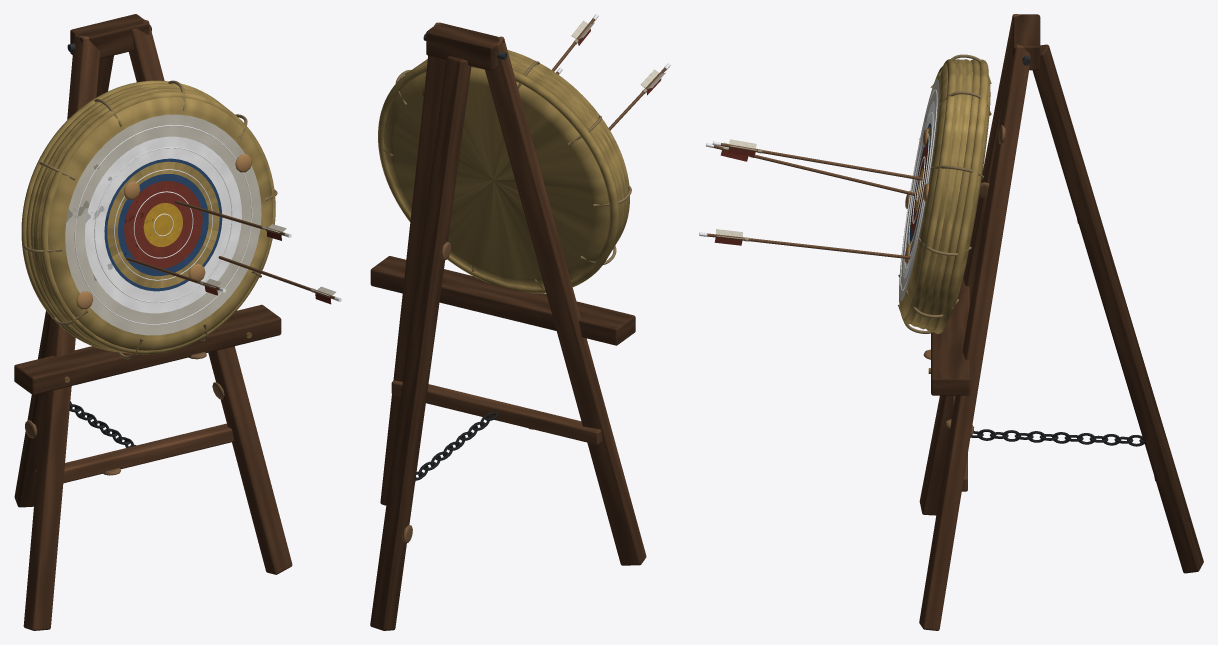
The picture shows the model from 3 angles, left to right: view 1: azimuth 30°, elevation 25°; view 2: azimuth 150°, elevation 25°; view 3: azimuth 270°, elevation 25°; orthographic projection.
Parts seen in each view (by area): view 1: woven straw, quarter-sawn hardwood, chalk white enamel, lamp-black enamel, hardwood bevel and dark grain, faded red enamel, blue enamel, ochre enamel, worn timber edges, peened pin, hemp rope, blackened strap iron; view 2: woven straw, hardwood bevel and dark grain, quarter-sawn hardwood, blackened strap iron, hemp rope, worn timber edges; view 3: hardwood bevel and dark grain, quarter-sawn hardwood, woven straw, worn timber edges, lamp-black enamel, chalk white enamel, blackened strap iron, hemp rope, faded red enamel.
Boxes of the visible parts, x1,y1,x2,y2 form: woven straw: (21, 80, 275, 354); quarter-sawn hardwood: (23, 19, 292, 630); chalk white enamel: (65, 114, 336, 335); lamp-black enamel: (74, 125, 341, 324); hardwood bevel and dark grain: (14, 14, 281, 507); faded red enamel: (124, 180, 331, 304); blue enamel: (104, 158, 222, 291); ochre enamel: (143, 203, 182, 246); worn timber edges: (126, 200, 335, 299); peened pin: (76, 154, 252, 309); hemp rope: (23, 80, 277, 359); blackened strap iron: (69, 401, 136, 447); woven straw: (378, 50, 629, 293); hardwood bevel and dark grain: (370, 22, 635, 630); quarter-sawn hardwood: (380, 22, 646, 565); blackened strap iron: (415, 412, 498, 481); hemp rope: (383, 61, 631, 288); worn timber edges: (552, 18, 666, 130); hardwood bevel and dark grain: (931, 14, 1203, 573); quarter-sawn hardwood: (919, 14, 1030, 630); woven straw: (899, 59, 990, 333); worn timber edges: (707, 143, 922, 259); lamp-black enamel: (699, 89, 937, 290); chalk white enamel: (716, 78, 939, 301); blackened strap iron: (970, 429, 1144, 446); hemp rope: (898, 54, 991, 333); faded red enamel: (714, 145, 927, 245).
Bounding box in the file's own units: 0.7813 × 1.53 × 1.3.
Materials: 16 (14 with a texture image).
